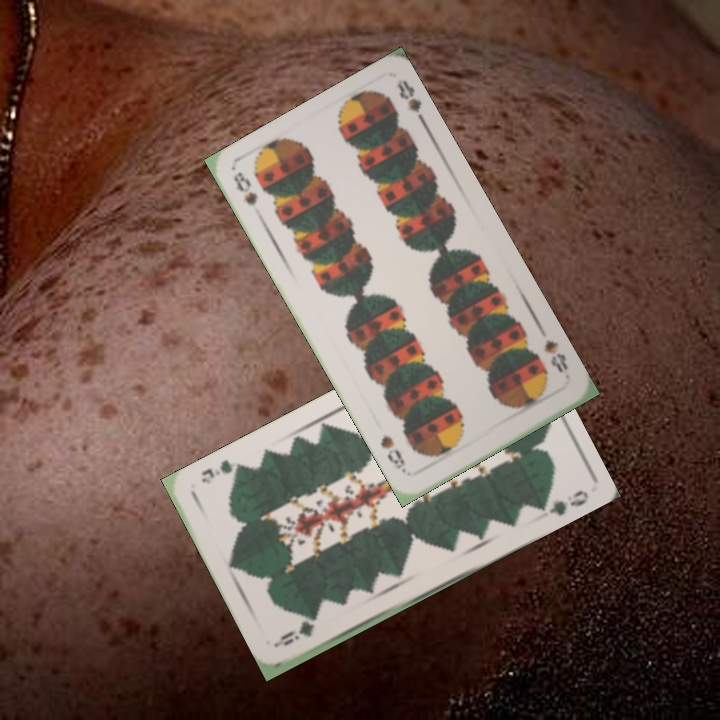G9: (277, 619, 317, 649)
S8: (229, 168, 261, 208), (540, 336, 571, 376)
